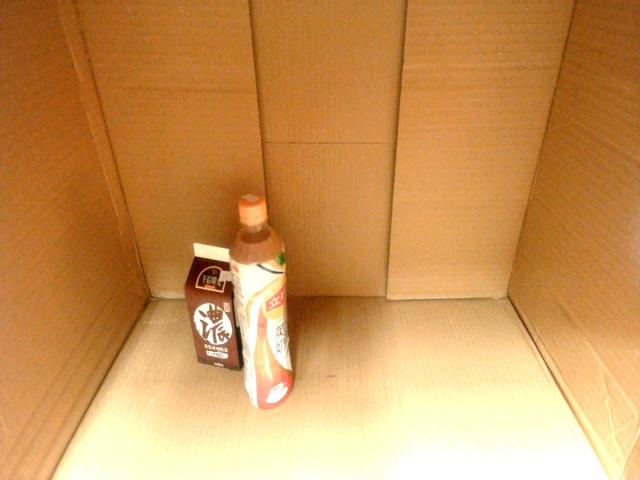bottle: (229, 191, 298, 412)
